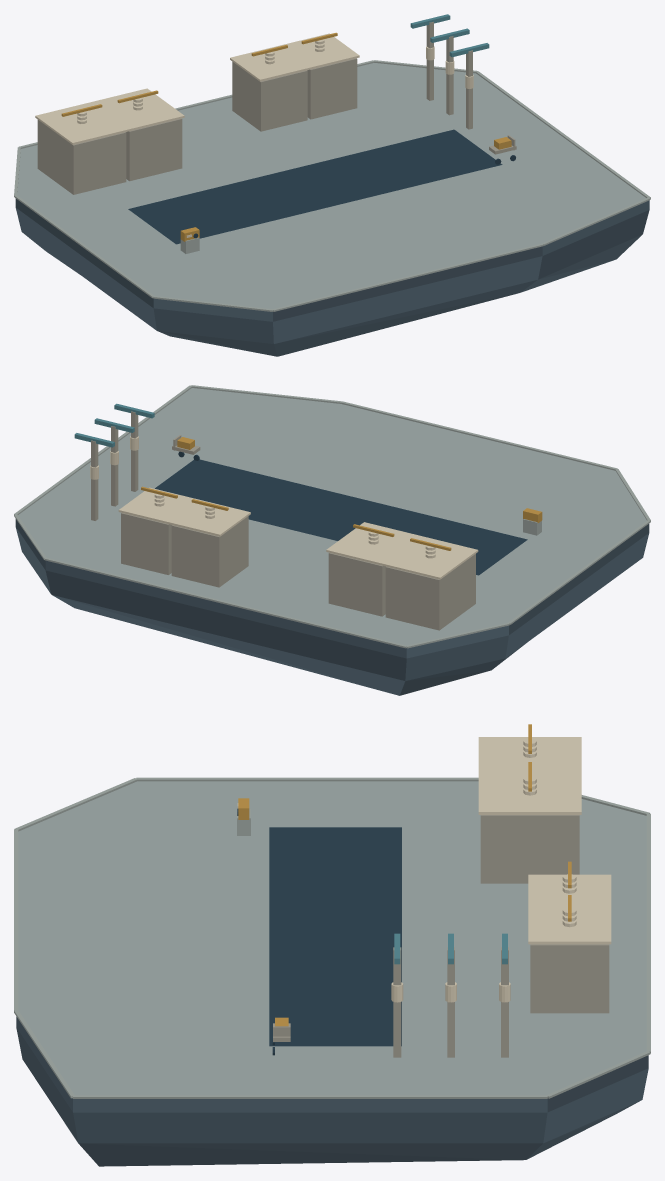
Rendered from ft03-power-vault.glb.
3 renders of one model, top to bottom at view 1: azimuth 30°, elevation 25°; view 2: azimuth 150°, elevation 25°; view 3: azimuth 270°, elevation 25°, orthographic. The views are drawn at different scales.
Parts seen in each view (by area): view 1: GEO_ground, GEO_foundation, GEO_forecourt, LAND_0_transformer, LAND_1_transformer, GEO_rim, LAND_2_busbars; view 2: GEO_ground, GEO_foundation, GEO_forecourt, LAND_0_transformer, LAND_1_transformer, GEO_rim, LAND_2_busbars, PROP_radio; view 3: GEO_ground, GEO_foundation, GEO_forecourt, LAND_0_transformer, LAND_1_transformer, GEO_rim, LAND_2_busbars.
Boxes of the visible parts, x1=… form: GEO_ground: x1=17, y1=63, x2=645, y2=308; GEO_foundation: x1=15, y1=198, x2=649, y2=356; GEO_forecourt: x1=128, y1=129, x2=502, y2=244; LAND_0_transformer: x1=35, y1=88, x2=184, y2=194; LAND_1_transformer: x1=230, y1=32, x2=359, y2=131; GEO_rim: x1=14, y1=60, x2=650, y2=311; LAND_2_busbars: x1=410, y1=14, x2=489, y2=129; GEO_ground: x1=18, y1=388, x2=646, y2=645; GEO_foundation: x1=15, y1=519, x2=649, y2=695; GEO_forecourt: x1=155, y1=459, x2=527, y2=575; LAND_0_transformer: x1=326, y1=522, x2=478, y2=630; LAND_1_transformer: x1=118, y1=486, x2=250, y2=587; GEO_rim: x1=14, y1=385, x2=650, y2=648; LAND_2_busbars: x1=74, y1=403, x2=154, y2=520; PROP_radio: x1=523, y1=508, x2=542, y2=535; GEO_ground: x1=18, y1=781, x2=646, y2=1095; GEO_foundation: x1=16, y1=1016, x2=648, y2=1166; GEO_forecourt: x1=269, y1=827, x2=401, y2=1046; LAND_0_transformer: x1=478, y1=724, x2=581, y2=883; LAND_1_transformer: x1=528, y1=861, x2=611, y2=1013; GEO_rim: x1=14, y1=777, x2=650, y2=1098; LAND_2_busbars: x1=391, y1=933, x2=510, y2=1057.
Bounding box in the file's own units: 38.22 × 10.85 × 32.22.
